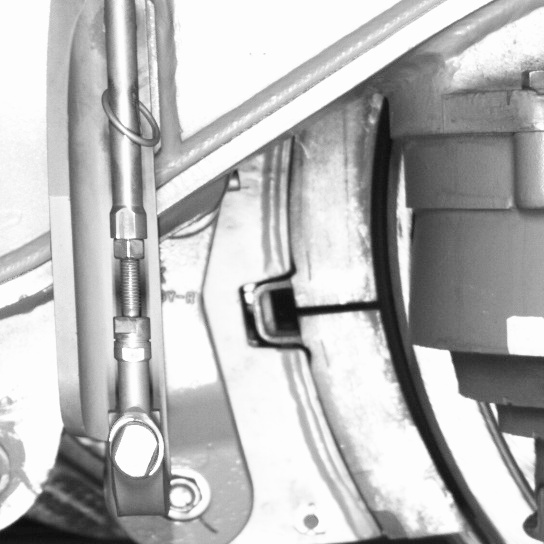KnifeSwitch: (291, 133, 506, 541)
